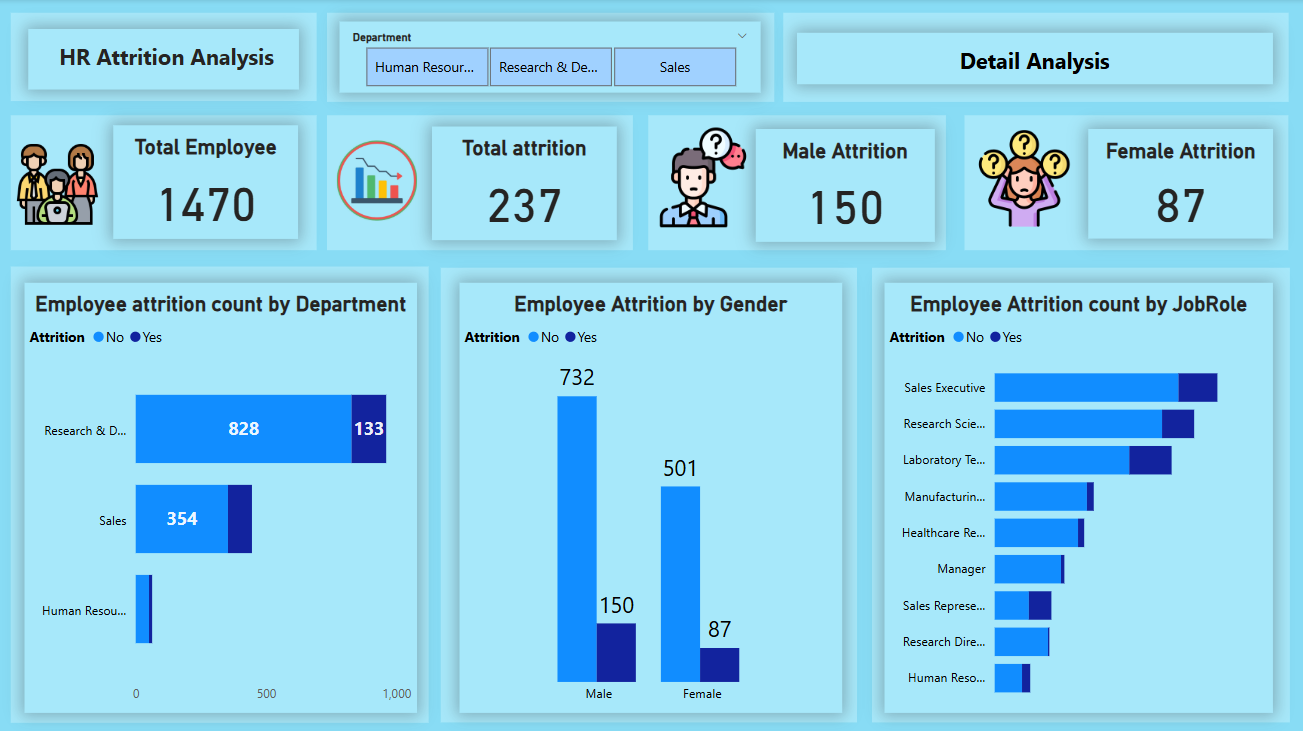

What the dashboard file says about the page in this screenshot:
{"tool":"powerbi","page":{"name":"Attrition Analysis","canvas":[1280,720],"ordinal":0},"visuals":[{"type":"textbox","box":[13.7,13.7,299.1,86.4],"z":0},{"type":"textbox","box":[30.2,28.8,264.8,59],"z":1000},{"type":"textbox","box":[13.7,113.9,299.1,131.7],"z":2000},{"type":"textbox","box":[322.5,113.9,299.1,131.7],"z":3000},{"type":"textbox","box":[636.7,113.9,290.9,131.7],"z":4000},{"type":"textbox","box":[946.8,113.9,317,131.7],"z":5000},{"type":"card","title":"Total attrition","fields":{"Values":["CountNonNull(WA_Fn-UseC_-HR-Employee-Attrition_cleaned.Attrition)"]},"box":[425.5,124.7,181,111.3],"z":7000},{"type":"card","title":"Total Employee","fields":{"Values":["CountNonNull(WA_Fn-UseC_-HR-Employee-Attrition_cleaned.Attrition)"]},"box":[113.9,123.5,181.1,111.1],"z":9000},{"type":"card","title":"Male Attrition","fields":{"Values":["WA_Fn-UseC_-HR-Employee-Attrition_cleaned.Male Attrition"]},"box":[742.3,127.2,174.9,110.1],"z":10000},{"type":"card","title":"Female Attrition","fields":{"Values":["WA_Fn-UseC_-HR-Employee-Attrition_cleaned.Female Attrition"]},"box":[1067.6,127.6,181.1,107],"z":12000},{"type":"textbox","box":[322.8,13.5,437.8,86.8],"z":13000},{"type":"slicer","fields":{"Values":["WA_Fn-UseC_-HR-Employee-Attrition_cleaned.Department"]},"box":[334.8,22,411.7,70],"z":14000},{"type":"textbox","box":[13.5,261.7,408.4,446.3],"z":15000},{"type":"barChart","title":"Employee attrition count by Department","fields":{"Y":["CountNonNull(WA_Fn-UseC_-HR-Employee-Attrition_cleaned.Attrition)"],"Category":["WA_Fn-UseC_-HR-Employee-Attrition_cleaned.Department"],"Series":["WA_Fn-UseC_-HR-Employee-Attrition_cleaned.Attrition"]},"box":[26.9,277.6,384,420.7],"z":16000},{"type":"textbox","box":[434.1,262.9,407.2,445.1],"z":17000},{"type":"clusteredColumnChart","title":"Employee Attrition by Gender ","fields":{"Category":["WA_Fn-UseC_-HR-Employee-Attrition_cleaned.Gender"],"Y":["CountNonNull(WA_Fn-UseC_-HR-Employee-Attrition_cleaned.Attrition)"],"Series":["WA_Fn-UseC_-HR-Employee-Attrition_cleaned.Attrition"]},"box":[452.4,277.6,374.2,420.7],"z":18000},{"type":"textbox","box":[856,262.9,408.4,445.1],"z":19000},{"type":"barChart","title":"Employee Attrition count by JobRole ","fields":{"Category":["WA_Fn-UseC_-HR-Employee-Attrition_cleaned.JobRole"],"Series":["WA_Fn-UseC_-HR-Employee-Attrition_cleaned.Attrition"],"Y":["CountNonNull(WA_Fn-UseC_-HR-Employee-Attrition_cleaned.Attrition)"]},"box":[868.2,277.6,380.3,420.7],"z":20000},{"type":"textbox","box":[769.2,13.5,494,86.8],"z":21000},{"type":"pageNavigator","box":[782.6,33,465.9,50.1],"z":22000},{"type":"image","box":[13.5,133.3,91.7,96.6],"z":22002},{"type":"image","box":[951.4,123.5,107.6,103.9],"z":22003},{"type":"image","box":[637,113.7,107.6,122.3],"z":22004},{"type":"image","box":[328,130,88,95.4],"z":22005}]}

Visuals, with their boxes in screenshot pixels (x1, y1, x2, y2), scaled from the page's 1280x720 canvas onto the 1303x731 screenshot:
textbox: box=[14, 14, 318, 102]
textbox: box=[31, 29, 300, 89]
textbox: box=[14, 116, 318, 249]
textbox: box=[328, 116, 633, 249]
textbox: box=[648, 116, 944, 249]
textbox: box=[964, 116, 1287, 249]
"Total attrition" card: box=[433, 127, 617, 240]
"Total Employee" card: box=[116, 125, 300, 238]
"Male Attrition" card: box=[756, 129, 934, 241]
"Female Attrition" card: box=[1087, 130, 1271, 238]
textbox: box=[329, 14, 774, 102]
slicer - WA_Fn-UseC_-HR-Employee-Attrition_cleaned.Department: box=[341, 22, 760, 93]
textbox: box=[14, 266, 429, 719]
"Employee attrition count by Department" barChart: box=[27, 282, 418, 709]
textbox: box=[442, 267, 856, 719]
"Employee Attrition by Gender " clusteredColumnChart: box=[461, 282, 841, 709]
textbox: box=[871, 267, 1287, 719]
"Employee Attrition count by JobRole " barChart: box=[884, 282, 1271, 709]
textbox: box=[783, 14, 1286, 102]
pageNavigator: box=[797, 34, 1271, 84]
image: box=[14, 135, 107, 233]
image: box=[968, 125, 1078, 231]
image: box=[648, 115, 758, 240]
image: box=[334, 132, 423, 229]
